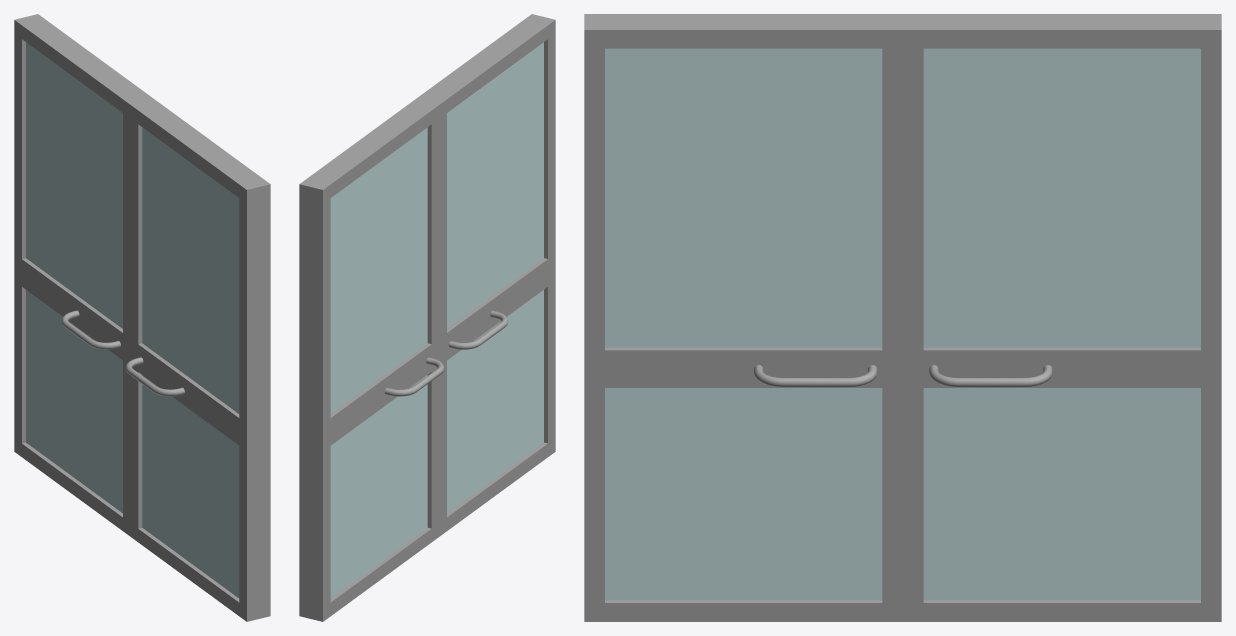
Rendered from EntranceDoors.fbx.
The picture shows the model from 3 angles, left to right: view 1: azimuth 30°, elevation 25°; view 2: azimuth 150°, elevation 25°; view 3: azimuth 270°, elevation 25°; orthographic projection. The views are drawn at different scales.
Parts seen in each view (by area): view 1: Doors.001, Doors; view 2: Doors.001, Doors; view 3: Doors.001, Doors.
Boxes of the visible parts, <box> form: Doors.001: <box>26,42,239,598</box>; Doors: <box>14,14,270,621</box>; Doors.001: <box>330,42,543,598</box>; Doors: <box>299,14,555,621</box>; Doors.001: <box>605,48,1200,600</box>; Doors: <box>584,14,1221,621</box>.
Bounding box in the file's own units: 34.74 × 207 × 202.
